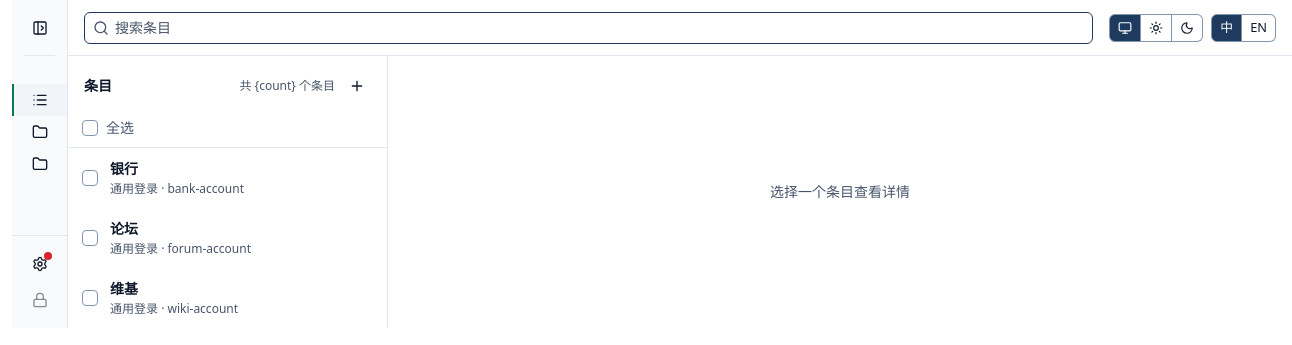
Test: 折叠态的设置入口 › 最近一次自动备份失败时图标上有状态圆点, 展开后换回文字标记
Click the button named "展开侧栏" at {"x": 40, "y": 28}, box [26, 14, 54, 42]
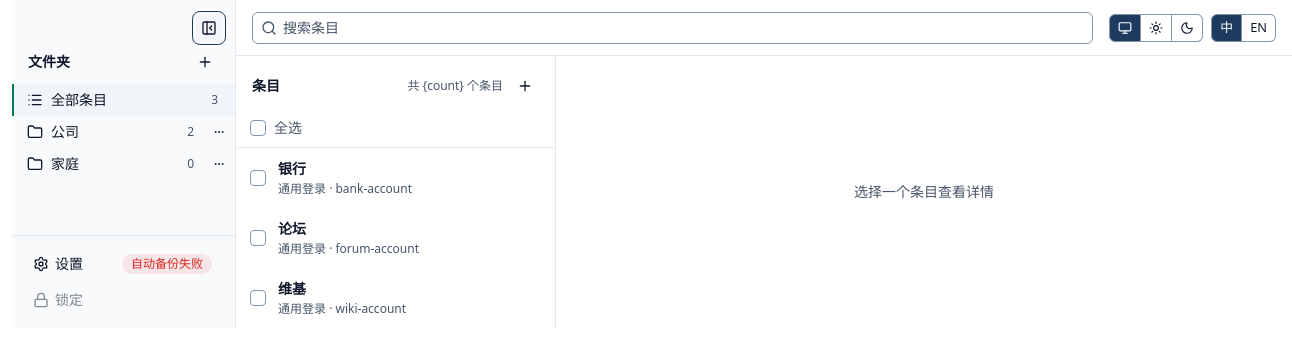
Now the text "自动备份失败" is shown, box [122, 254, 212, 274]
